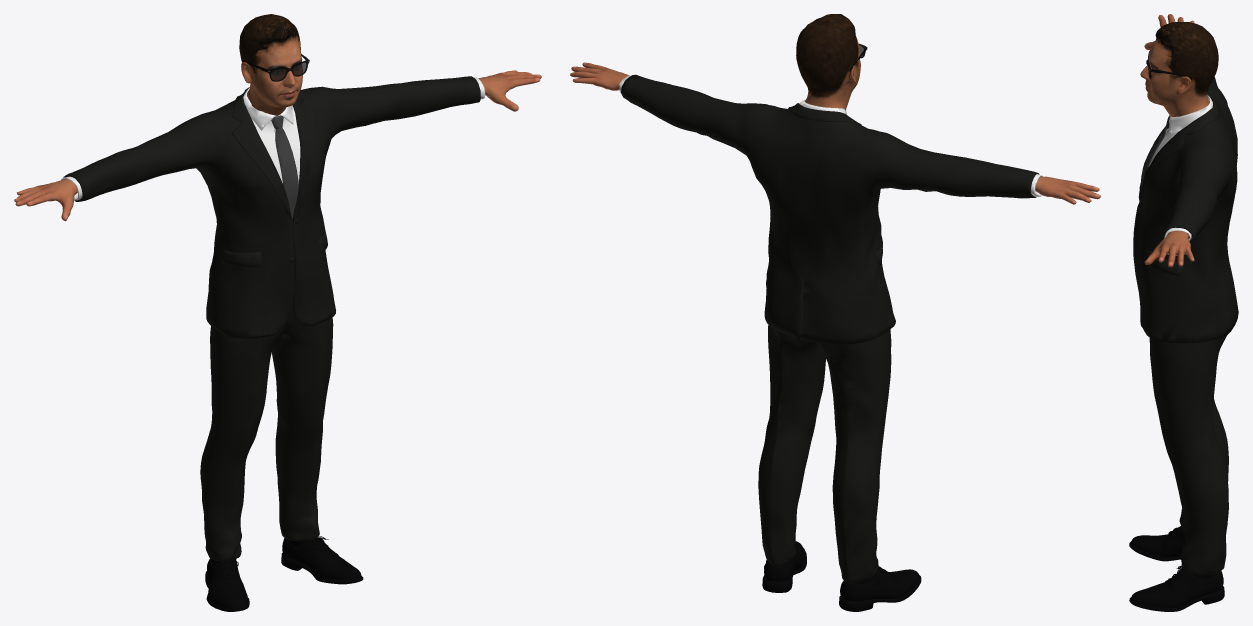
Rendered from person-standing-5.glb.
The picture shows the model from 3 angles, left to right: view 1: azimuth 30°, elevation 25°; view 2: azimuth 150°, elevation 25°; view 3: azimuth 270°, elevation 25°; orthographic projection. The views are drawn at different scales.
Parts seen in each view (by area): view 1: outfit_outfit_0, __1, AvatarBody_AvatarBody_0; view 2: outfit_outfit_0, __1, AvatarBody_AvatarBody_0; view 3: outfit_outfit_0, __1, AvatarBody_AvatarBody_0, glasses_glasses_0.
Boxes of the visible parts, x1,y1,x2,y2 form: outfit_outfit_0: (61,76,485,611); __1: (239,14,302,115); AvatarBody_AvatarBody_0: (14,70,541,221); outfit_outfit_0: (619,74,1042,611); __1: (796,14,860,110); AvatarBody_AvatarBody_0: (570,62,1100,204); outfit_outfit_0: (1129,77,1238,611); __1: (1140,22,1218,116); AvatarBody_AvatarBody_0: (1144,14,1194,267); glasses_glasses_0: (1146,49,1192,79).
Size of the model in its own units: 1.73 by 1.78 by 0.318.
Materials: 9 (8 with a texture image).
